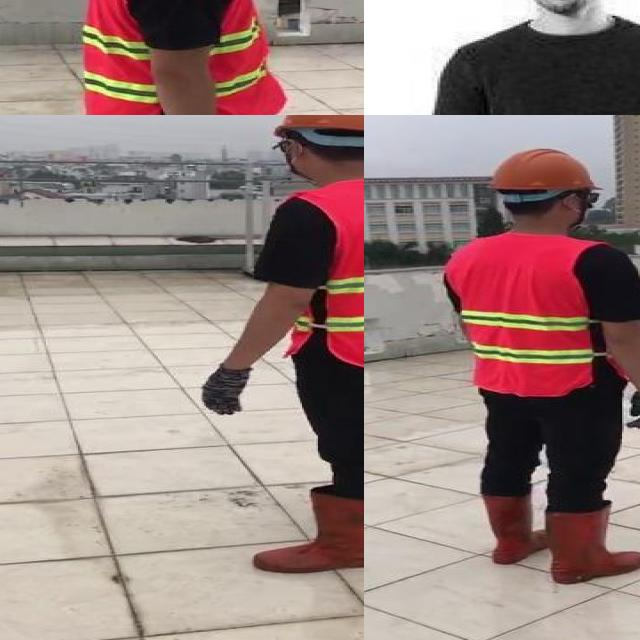boots: (253, 488, 364, 573), (547, 503, 640, 583), (472, 490, 546, 568)
face_nomask: (526, 0, 602, 14)
hand_glove: (195, 365, 252, 417), (632, 391, 640, 432)
head_helmet: (479, 144, 603, 192), (269, 115, 364, 139)
person: (426, 144, 640, 589), (186, 115, 364, 579), (62, 0, 334, 115), (419, 0, 640, 115)
vest: (442, 233, 610, 400), (83, 0, 284, 115), (280, 180, 364, 367)
